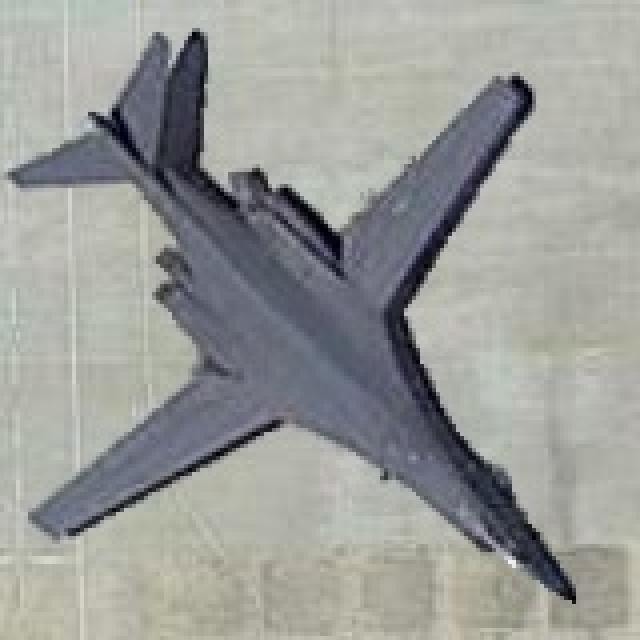B-1_TopDown: (4, 24, 580, 604)
